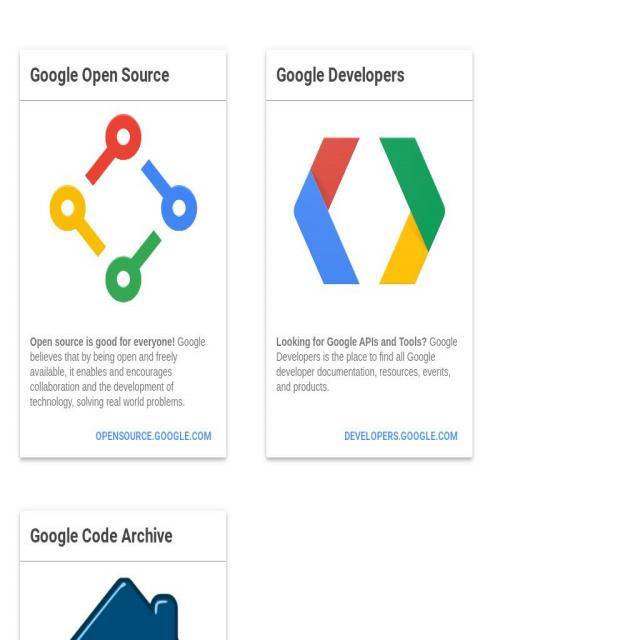navigation-blocks: (11, 43, 475, 640)
